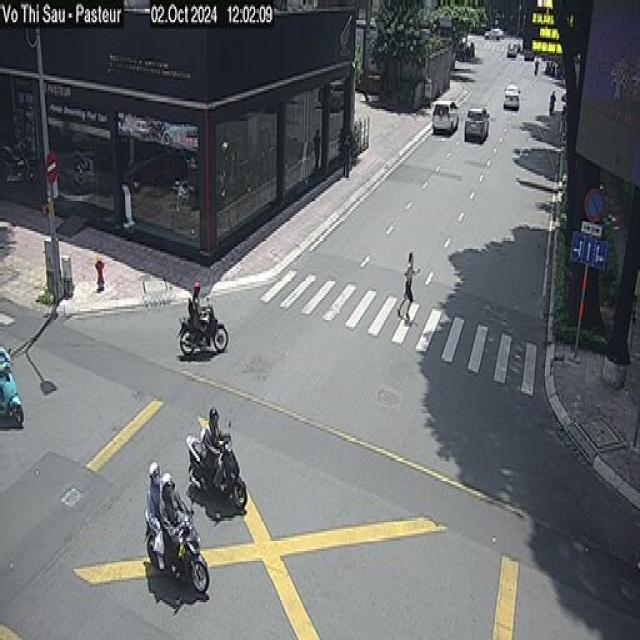car: (431, 98, 459, 136), (464, 107, 488, 142), (502, 82, 520, 109)
motorcycle: (146, 514, 210, 603), (185, 420, 247, 511), (176, 302, 228, 356), (0, 352, 26, 446)
person: (200, 404, 232, 486), (160, 464, 183, 540), (146, 458, 168, 529), (396, 251, 415, 318), (189, 276, 206, 324)
